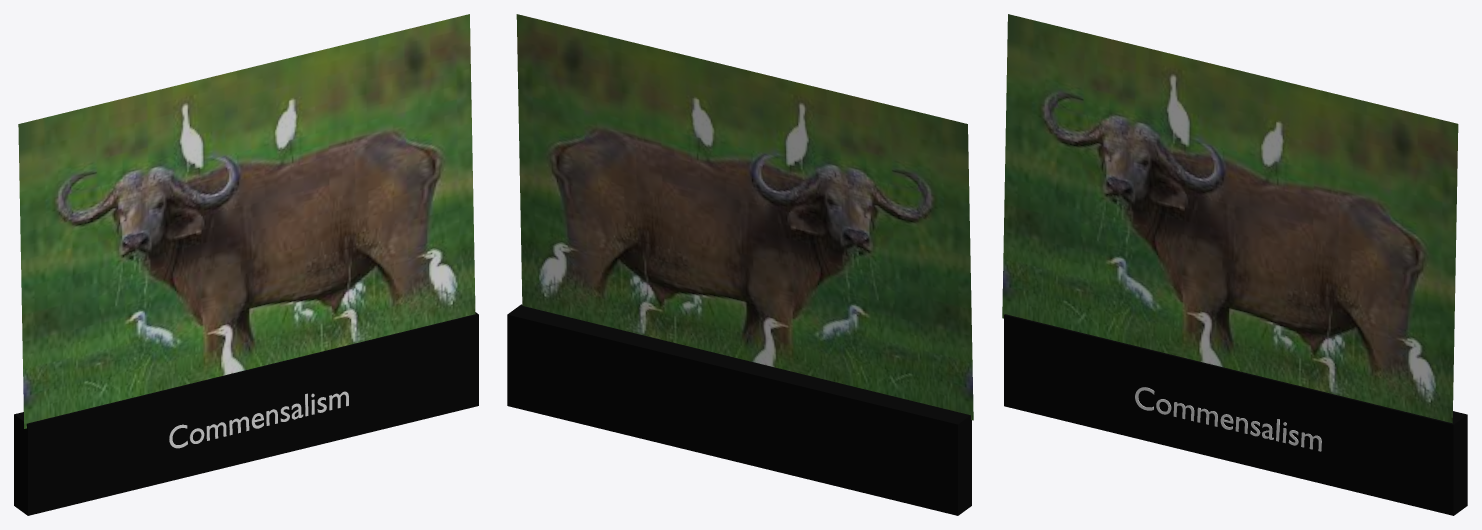
File: commensalism.gltf
The picture shows the model from 3 angles, left to right: view 1: azimuth 30°, elevation 25°; view 2: azimuth 150°, elevation 25°; view 3: azimuth 330°, elevation 25°; orthographic projection.
Visible parts, largest first — view 1: commensalism, Cube.016, Text.016; view 2: commensalism, Cube.016; view 3: commensalism, Cube.016, Text.016.
Part boxes in pixels (x1=…): commensalism: x1=18, y1=14, x2=475, y2=428; Cube.016: x1=14, y1=312, x2=478, y2=515; Text.016: x1=169, y1=391, x2=348, y2=448; commensalism: x1=516, y1=14, x2=973, y2=420; Cube.016: x1=507, y1=304, x2=971, y2=515; commensalism: x1=1002, y1=14, x2=1458, y2=423; Cube.016: x1=1004, y1=314, x2=1467, y2=515; Text.016: x1=1135, y1=387, x2=1321, y2=451.
Bounding box in the file's own units: 3.97 × 3.24 × 0.2909.
2 materials, 1 textured.
